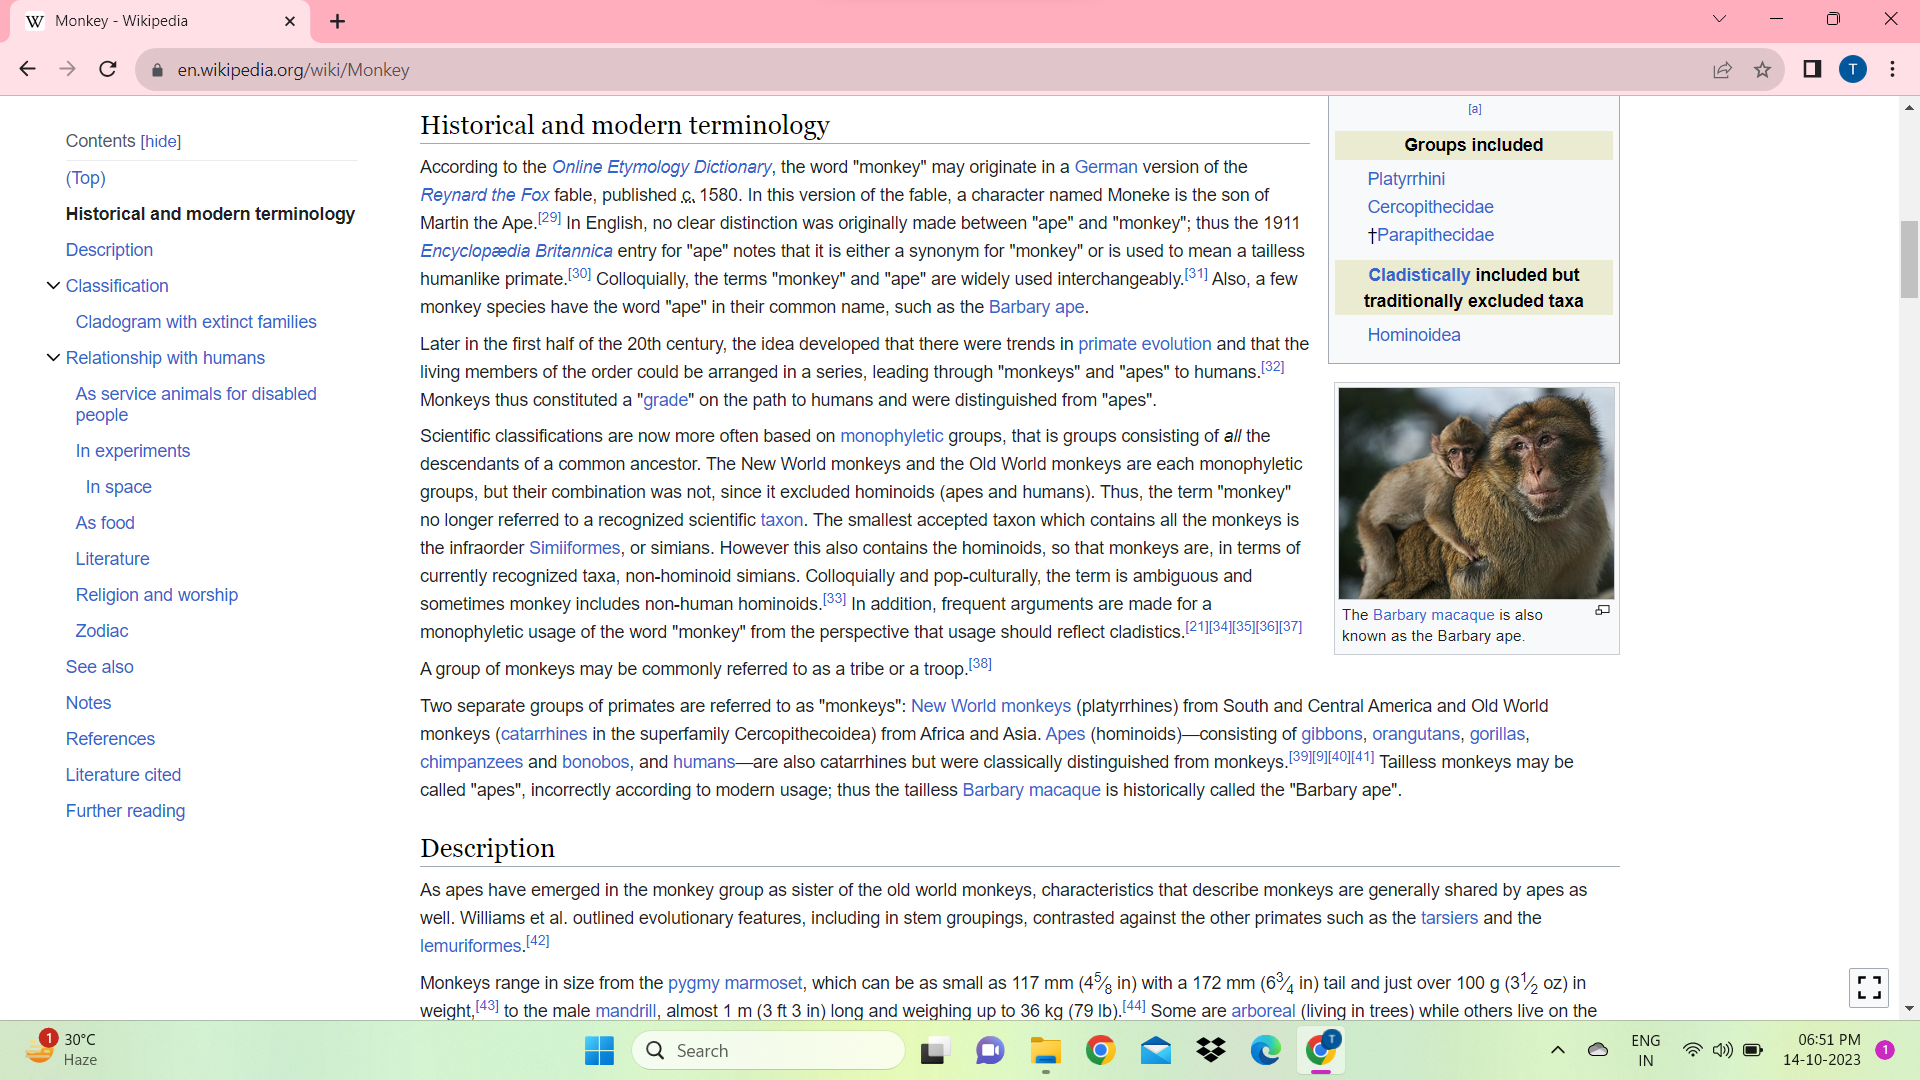Image: (1337, 382, 1615, 596)
Paragraph: (411, 423, 1313, 679), (407, 686, 1629, 815), (407, 149, 1316, 316), (411, 869, 1605, 951), (410, 330, 1319, 411), (406, 971, 1597, 1014), (67, 371, 343, 435), (414, 102, 876, 138), (58, 194, 363, 237), (58, 306, 326, 336), (50, 125, 218, 162), (411, 831, 572, 868), (58, 719, 179, 756), (75, 471, 170, 505), (67, 546, 157, 570), (65, 613, 129, 644)
